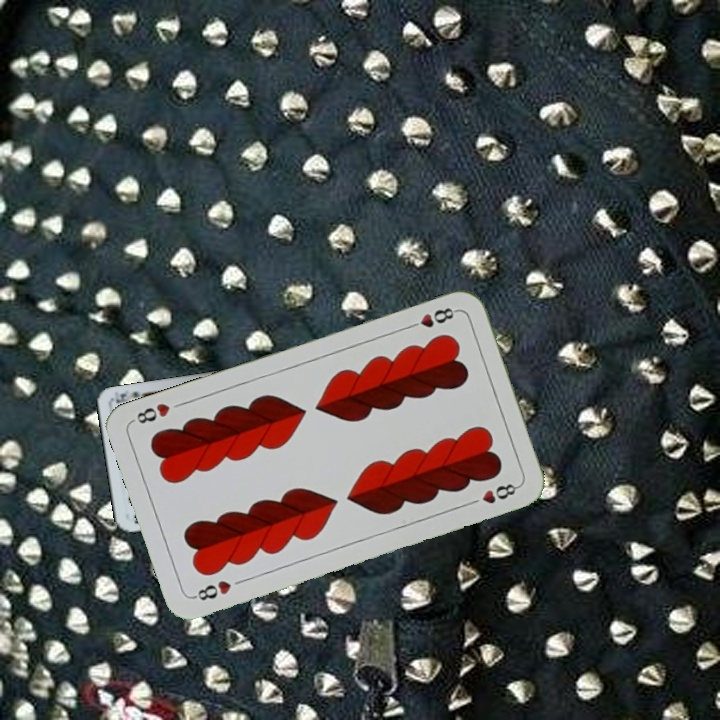H8: (403, 303, 461, 332), (189, 576, 234, 604)
